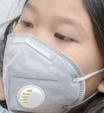with_mask: (1, 1, 104, 113)
